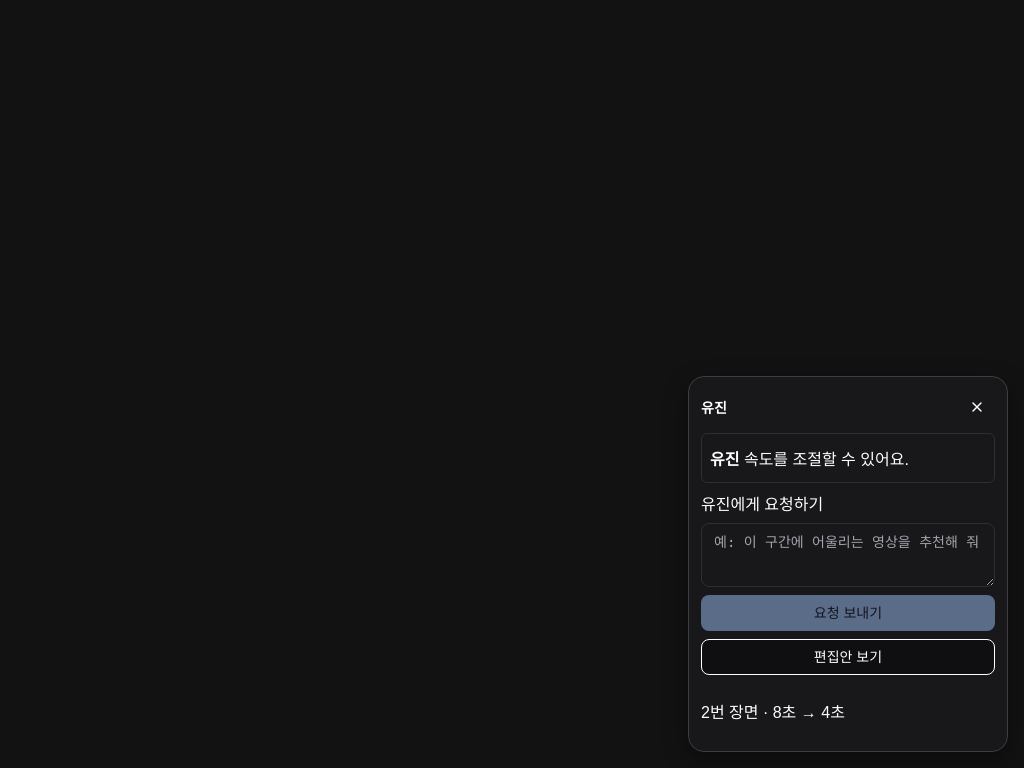
Test case: 편집안 미리보기 › 편집본이 바뀌었으면 낡은 영상을 보여 주지 않는다
Click the button "편집안 보기" at (848, 657), box [701,639,995,675]
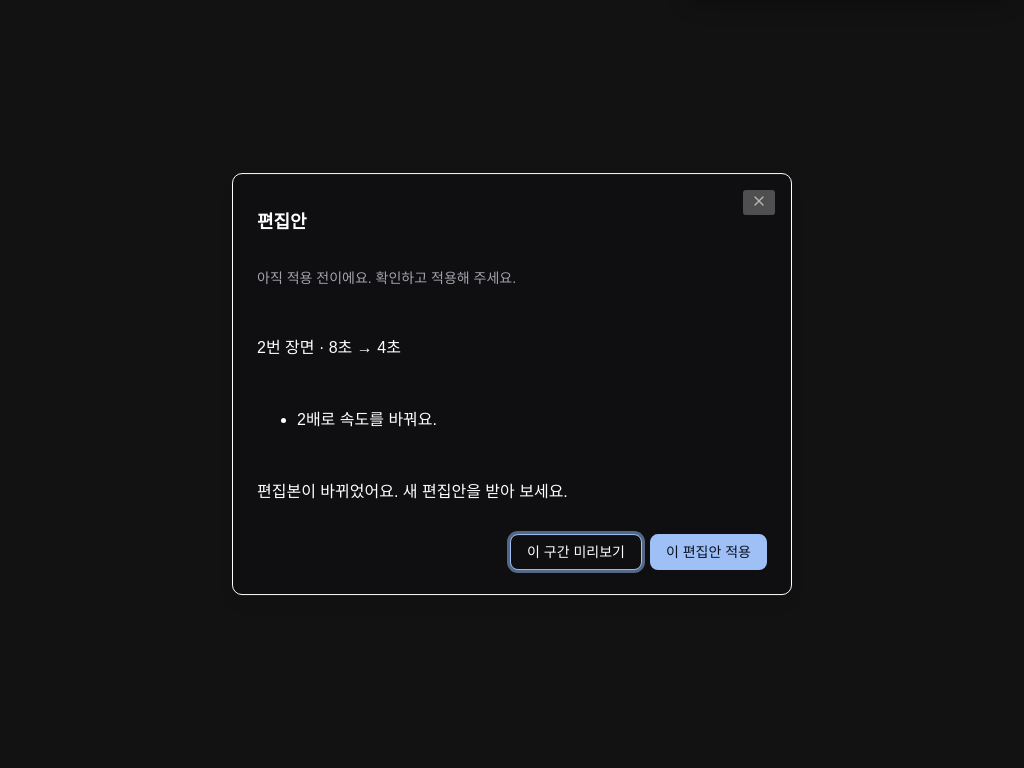
Check: the dialog "편집안" shows "편집본이 바뀌었어요. 새 편집안을 받아 보세요.", box [257,483,568,500]
